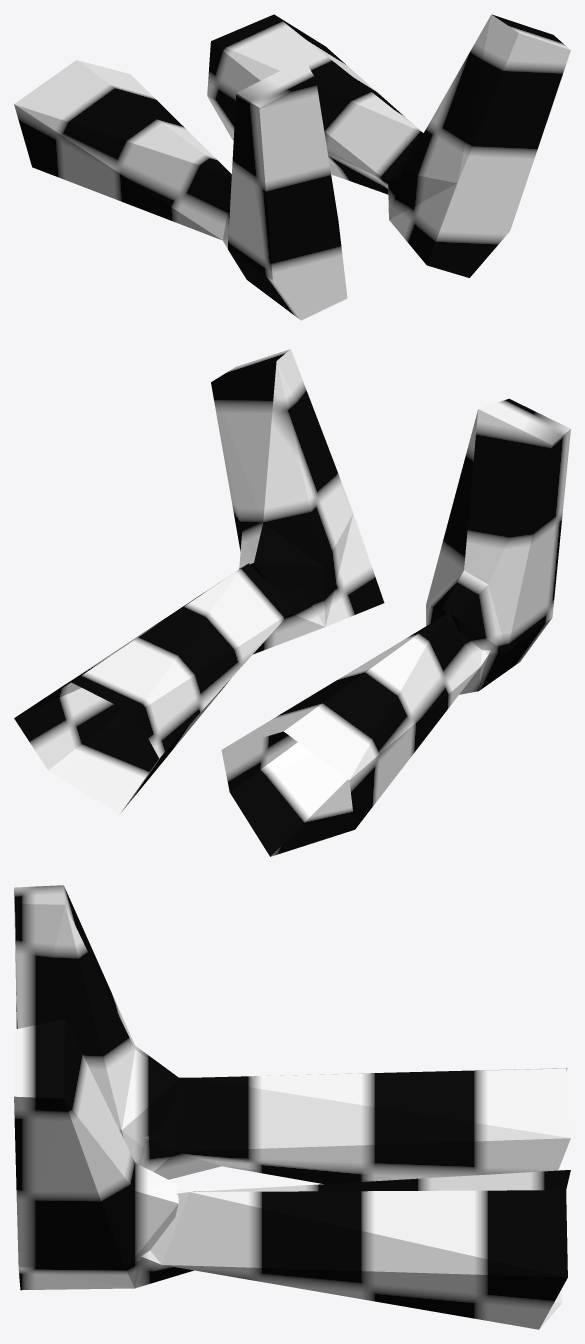
Rendered from initarbt0.dae.
The picture shows the model from 3 angles, top to bottom: view 1: azimuth 30°, elevation 25°; view 2: azimuth 150°, elevation 25°; view 3: azimuth 270°, elevation 25°; orthographic projection. The views are drawn at different scales.
Visible parts, largest first — view 1: armor; view 2: armor; view 3: armor.
Boxes of the visible parts, x1,y1,x2,y2 form: armor: (14,14,570,320); armor: (14,349,570,856); armor: (14,885,570,1329).
Bounding box in the file's own units: 1.19 × 1.4 × 0.9029.
Materials: 1 (1 with a texture image).
